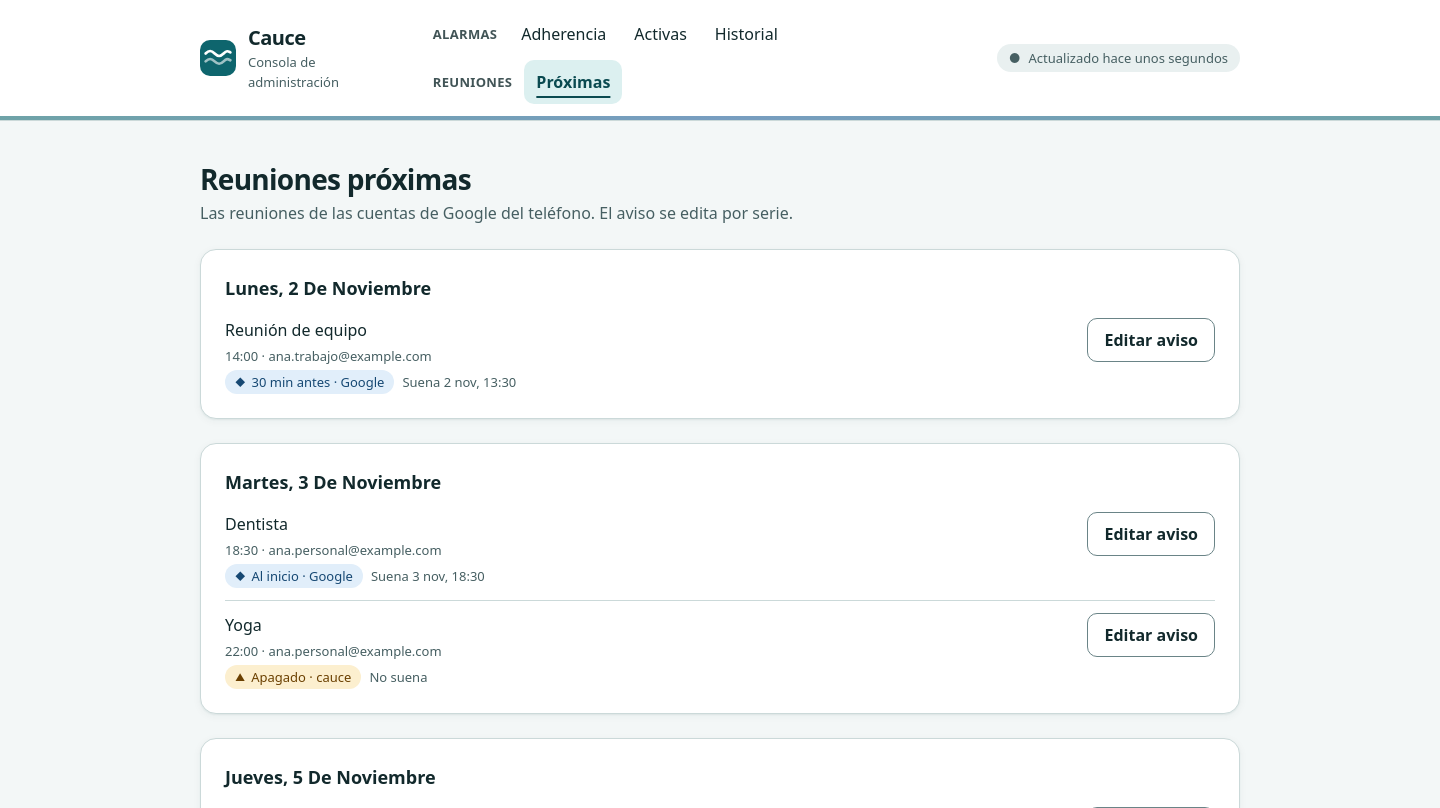
Scenario: ReunionesView (P1) › rechaza minutos inválidos sin empujar
Click the button with aria-label "Editar aviso de Dentista": (1151, 534) [1088,512,1215,556]
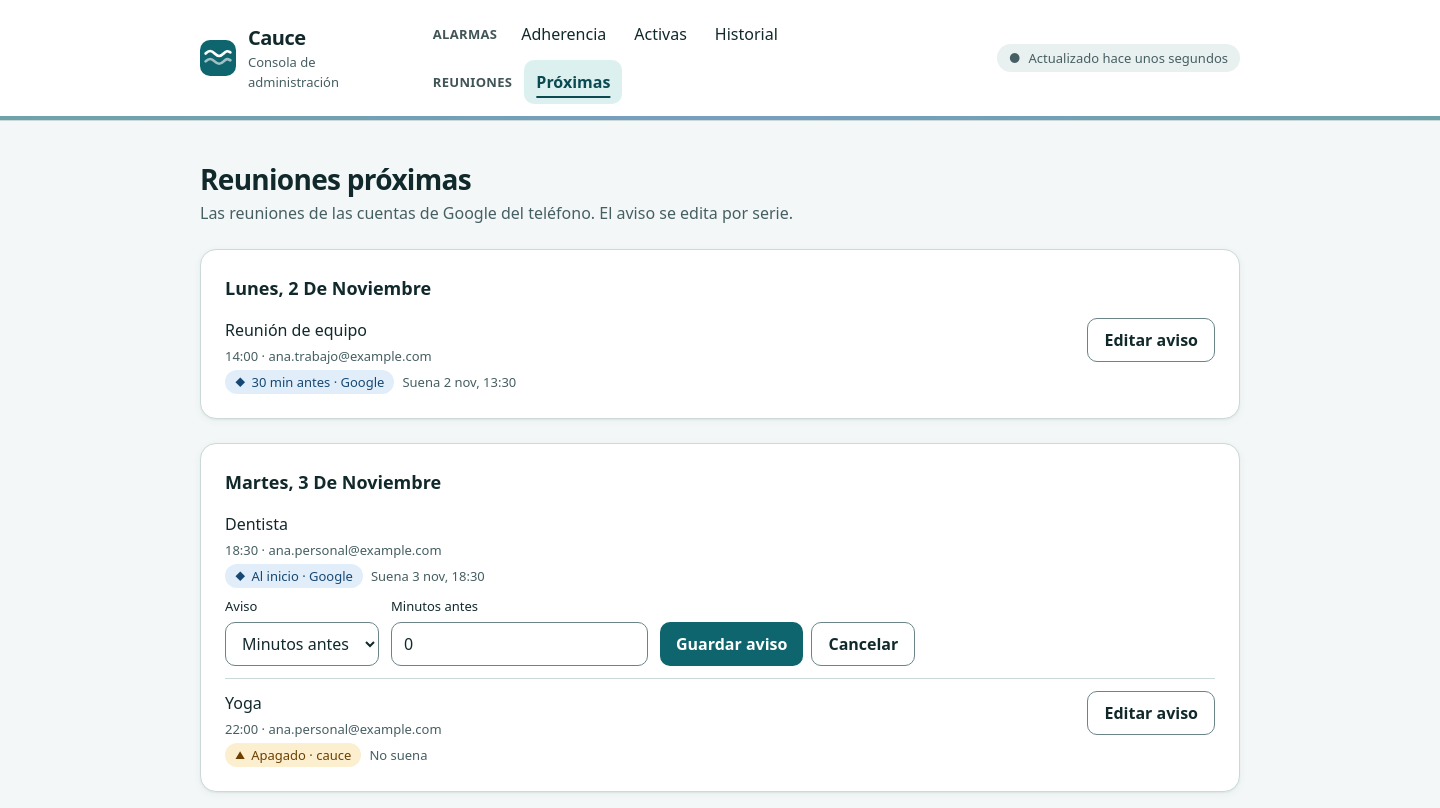
Replace the text in the field labelled "Minutos antes" with "-3": (520, 644) [391,622,648,666]
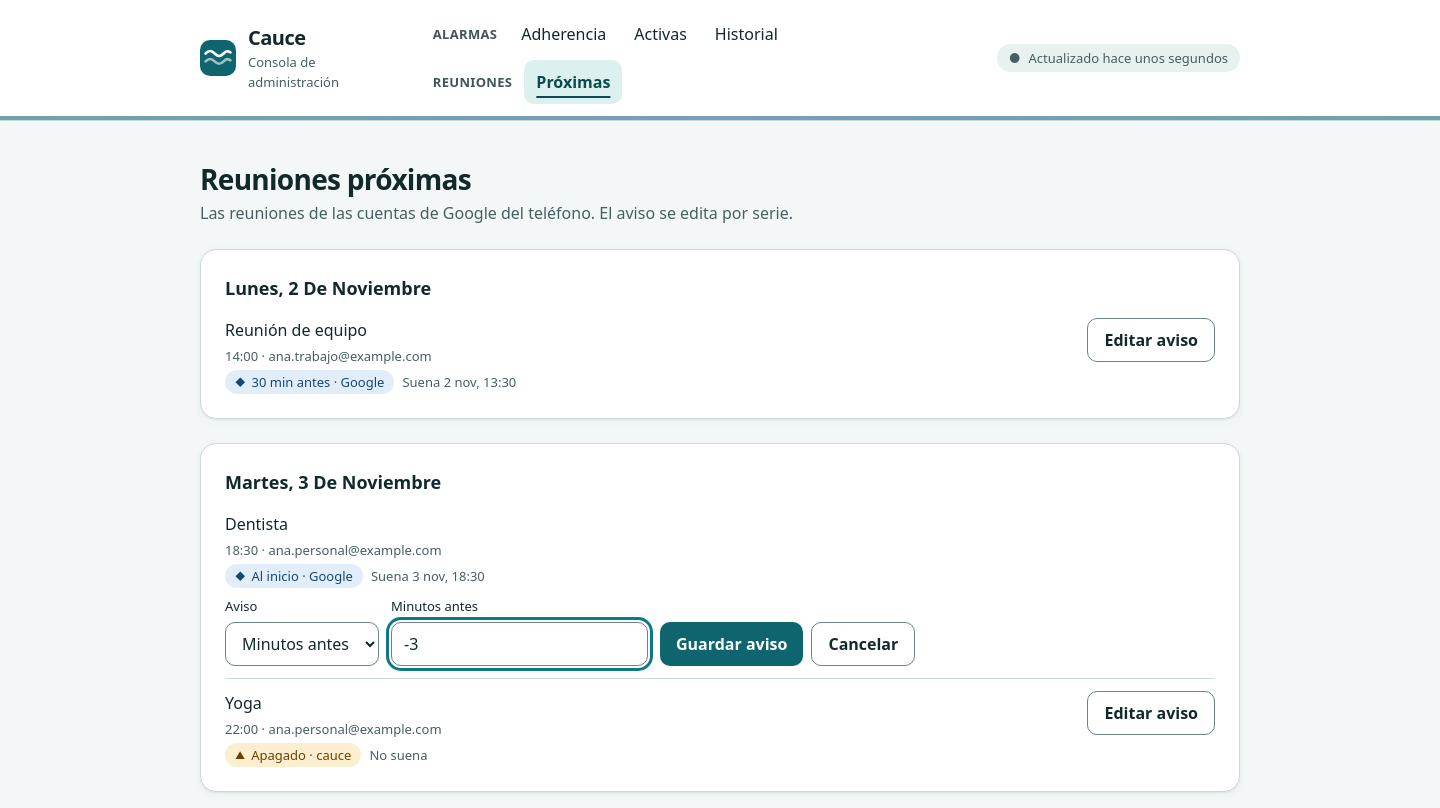
Click the button "Guardar aviso": (732, 644) [660,622,803,666]
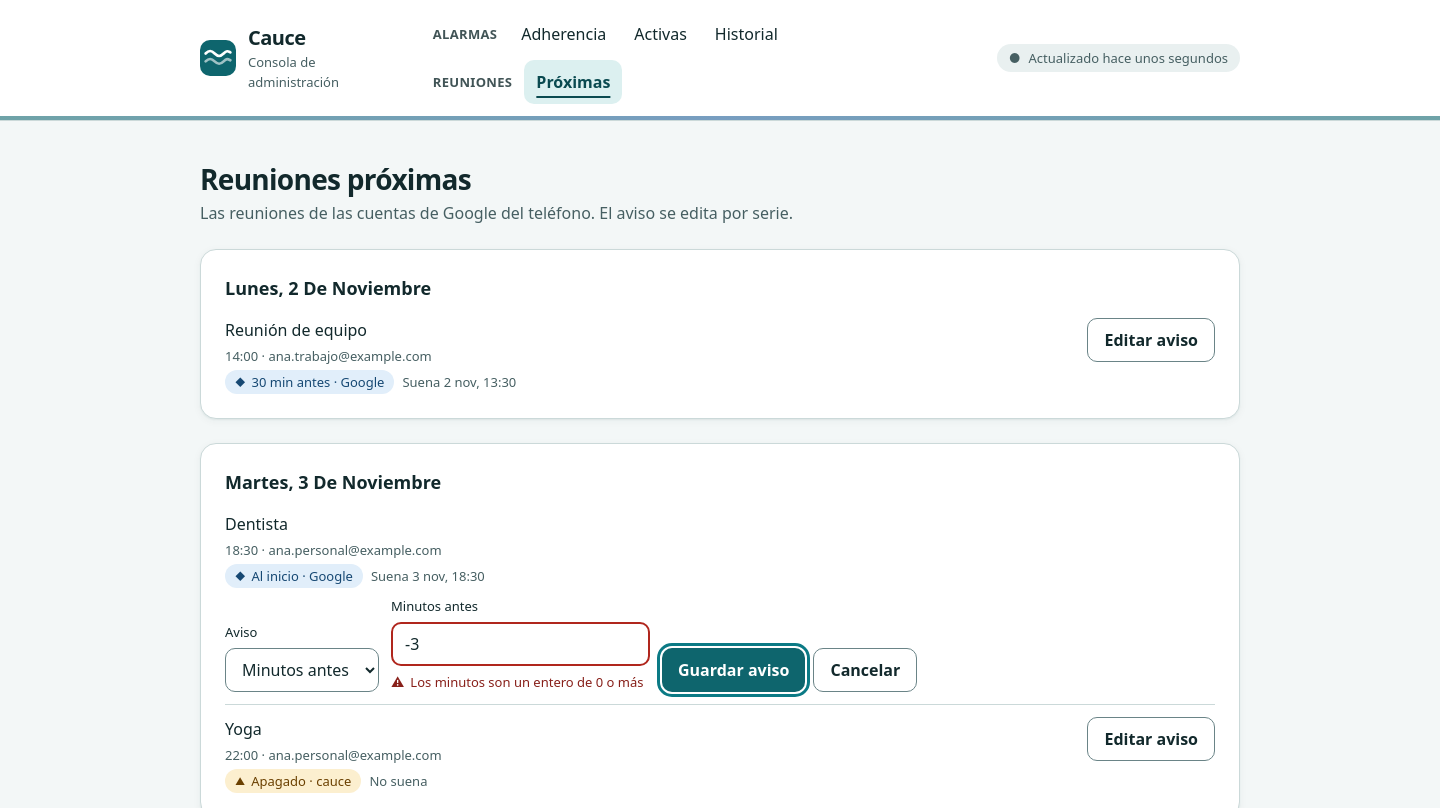
Expected: the text "⚠ Los minutos son un entero de 0 o más" is shown, [391,672,650,692]
